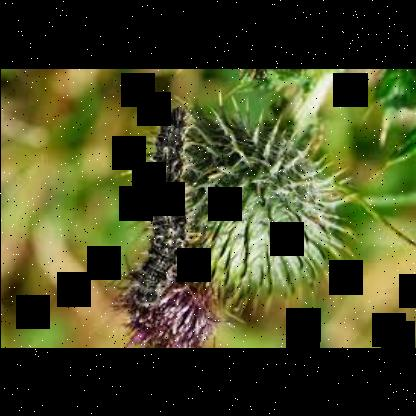oruga: (120, 95, 221, 348)
